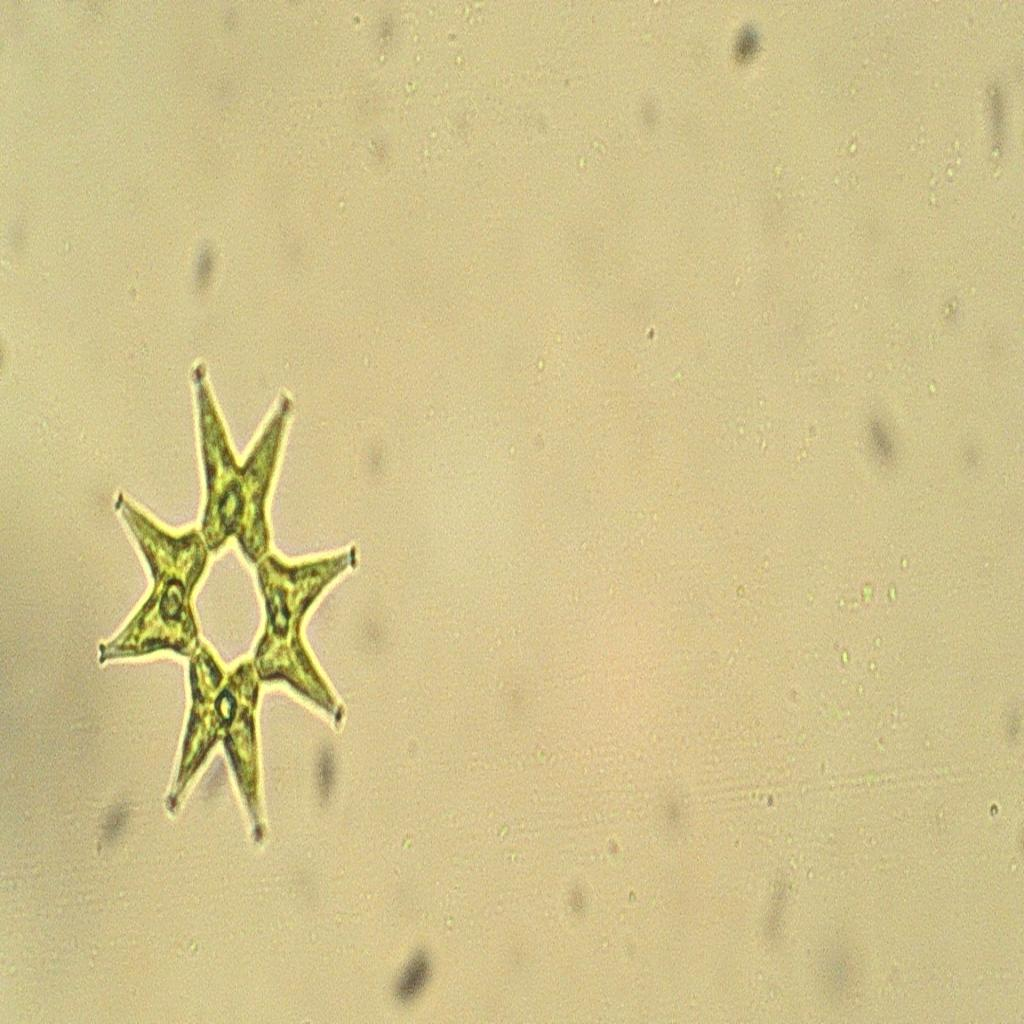Pediastrum_10: (87, 344, 364, 862)
